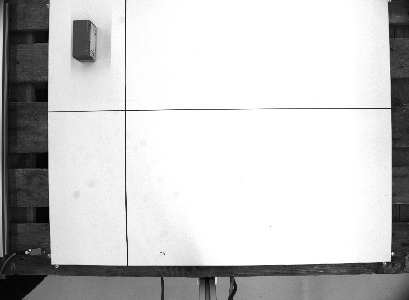b3: (69, 18, 98, 63)
